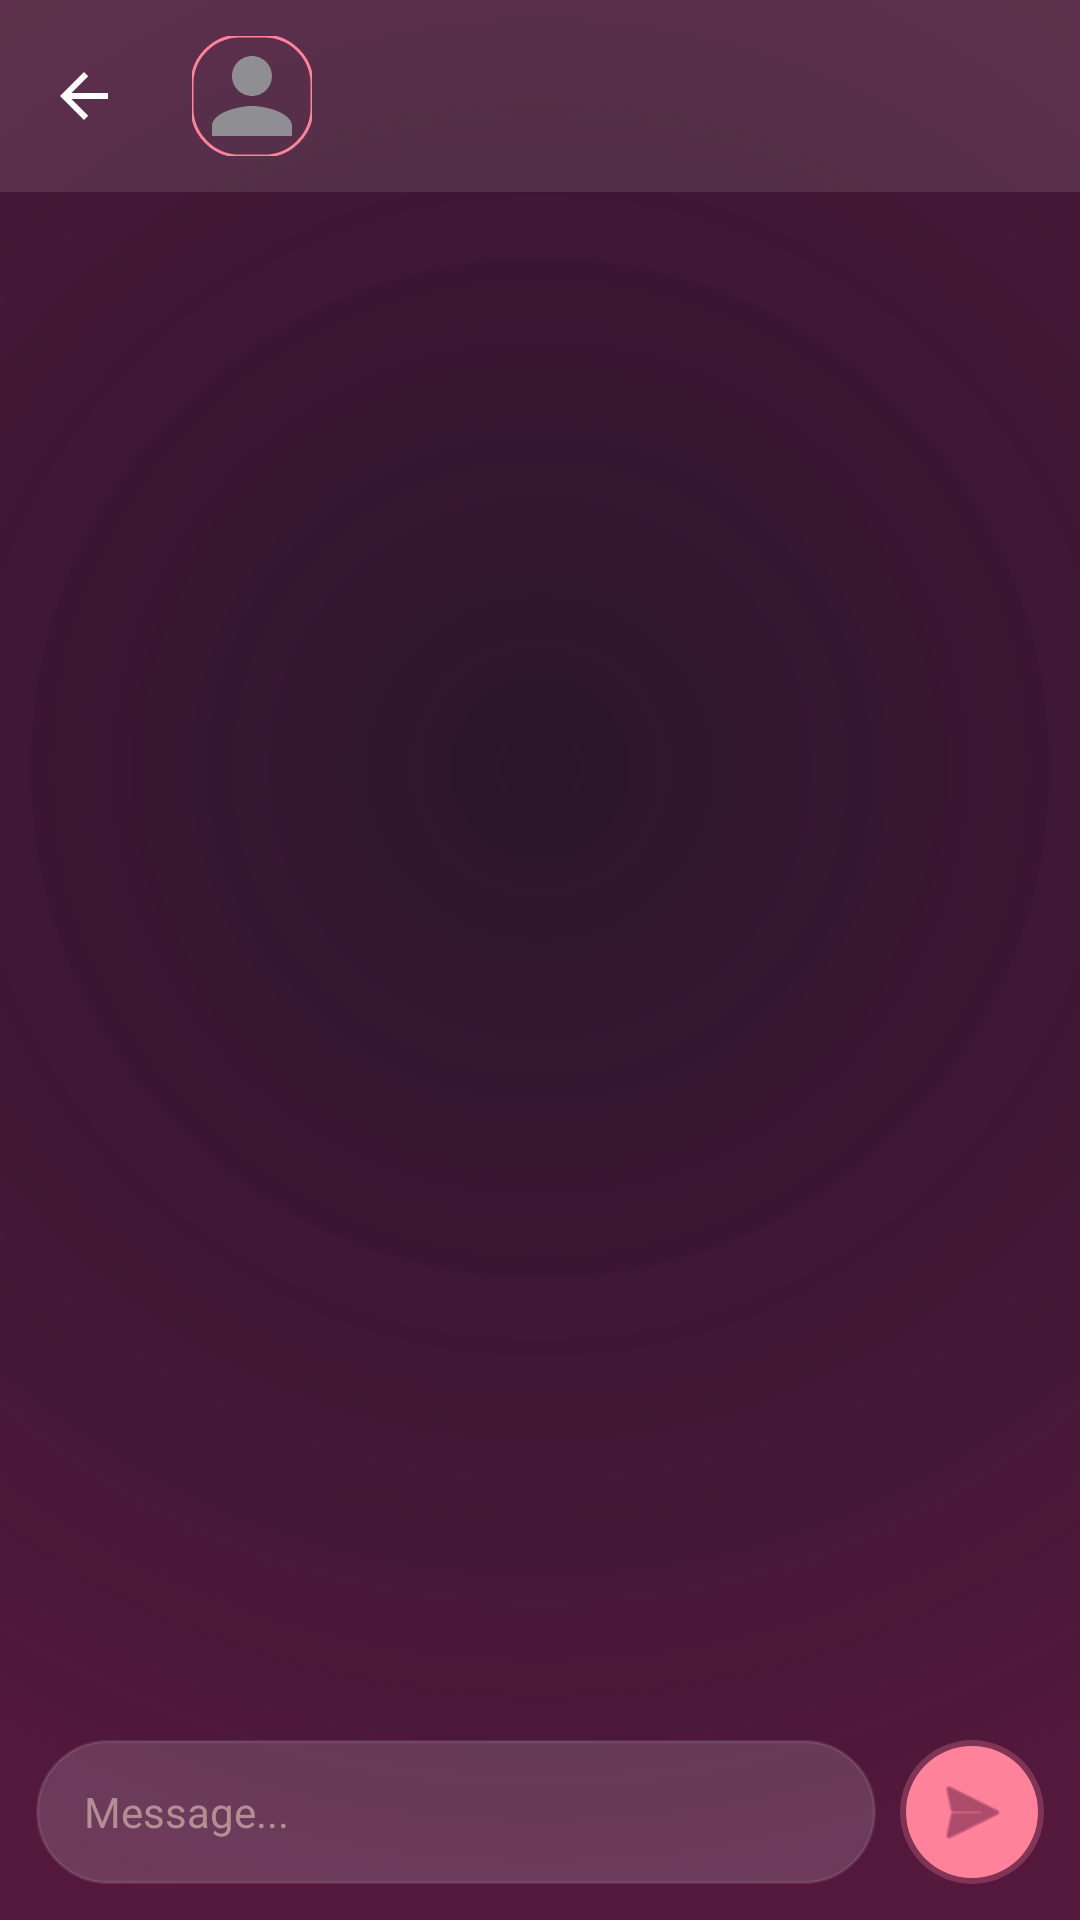

Icons on this 1080px×1920px Android screen, each with the point to tap as (x,y):
send: (972,1812)
